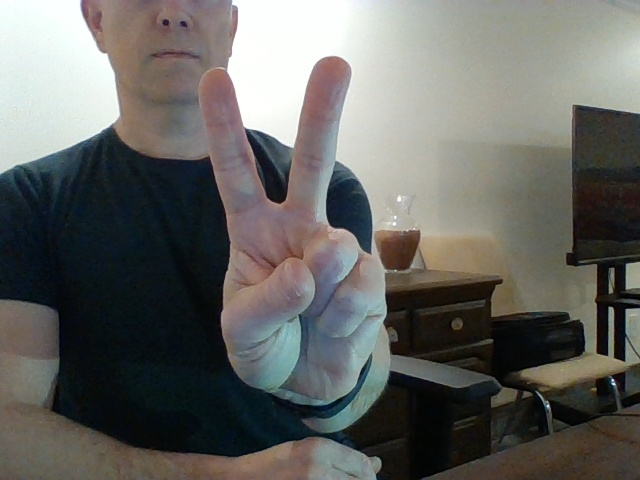Victory: (198, 55, 387, 397)
